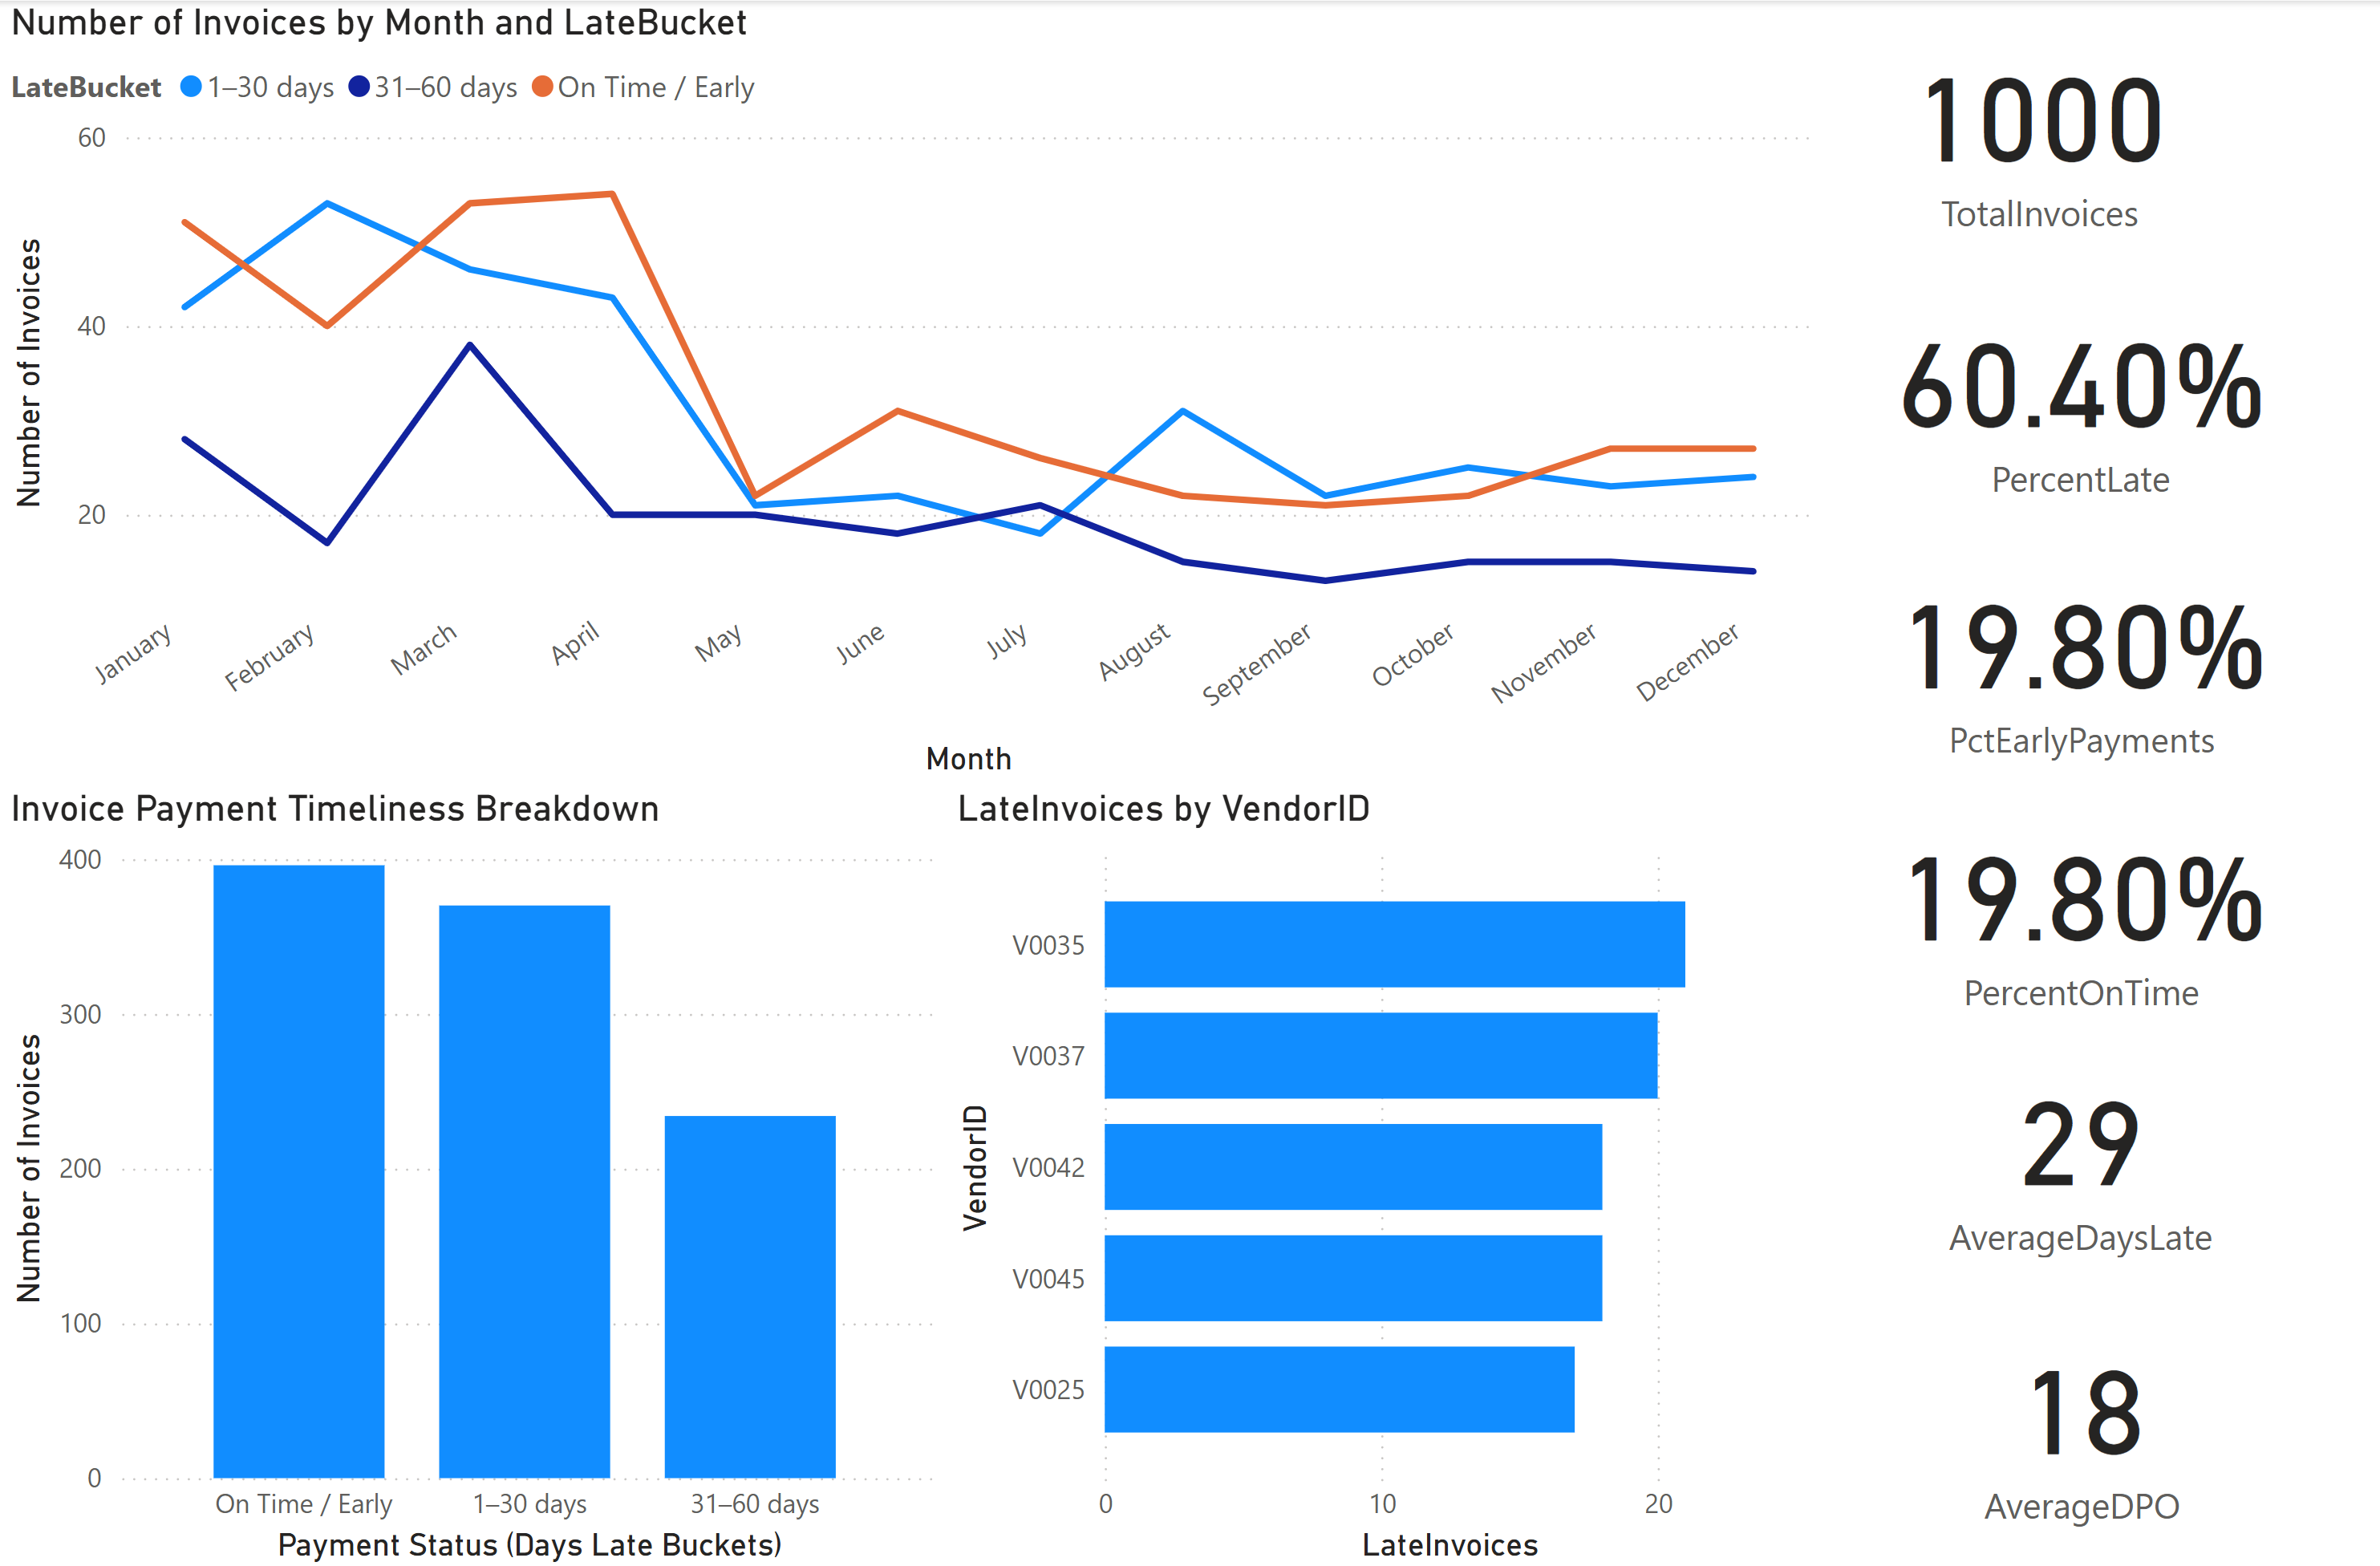

This screenshot's page, from the dashboard's own definition file:
{"tool":"powerbi","page":{"name":"Page 1","canvas":[1280,720],"ordinal":0},"visuals":[{"type":"columnChart","title":"Invoice Payment Timeliness Breakdown","fields":{"Category":["Invoices.LateBucket"],"Y":["CountNonNull(Invoices.InvoiceID)"]},"box":[0,360,433.5,360],"z":0},{"type":"barChart","fields":{"Category":["Invoices.VendorID"],"Y":["Invoices.LateInvoices"]},"box":[433.5,360,401.2,360],"z":1000},{"type":"card","fields":{"Values":["Invoices.TotalInvoices"]},"box":[834,0,200.6,116.8],"z":2000},{"type":"card","fields":{"Values":["Invoices.PercentLate"]},"box":[852.4,116.8,201.3,126.4],"z":3000},{"type":"card","fields":{"Values":["Invoices.PercentOnTime"]},"box":[853.1,356.4,200.6,117.6],"z":4000},{"type":"lineChart","title":"Number of Invoices by Month and LateBucket","fields":{"Category":["Invoices.InvoiceDate.Variation.Date Hierarchy.Month"],"Y":["Invoices.TotalInvoices"],"Series":["Invoices.LateBucket"]},"box":[0,0,834.7,360],"z":5000},{"type":"card","fields":{"Values":["Invoices.AverageDaysLate"]},"box":[852.4,473.9,201.3,106.5],"z":6000},{"type":"card","fields":{"Values":["Invoices.PctEarlyPayments"]},"box":[853.1,243.2,201.3,113.2],"z":7000},{"type":"card","fields":{"Values":["Invoices.AverageDPO"]},"box":[853.3,580.4,201,139.8],"z":7001}]}

Visuals, with their boxes on the page's 1280x720 design canvas (x1, y1, x2, y2). These are canvas units, not pixel positions in the 2380x1566 screenshot, which may show the page scaled, cropped or inside an application window:
"Invoice Payment Timeliness Breakdown" columnChart: (x1=0, y1=360, x2=434, y2=720)
barChart - Invoices.VendorID x Invoices.LateInvoices: (x1=434, y1=360, x2=835, y2=720)
card - Invoices.TotalInvoices: (x1=834, y1=0, x2=1035, y2=117)
card - Invoices.PercentLate: (x1=852, y1=117, x2=1054, y2=243)
card - Invoices.PercentOnTime: (x1=853, y1=356, x2=1054, y2=474)
"Number of Invoices by Month and LateBucket" lineChart: (x1=0, y1=0, x2=835, y2=360)
card - Invoices.AverageDaysLate: (x1=852, y1=474, x2=1054, y2=580)
card - Invoices.PctEarlyPayments: (x1=853, y1=243, x2=1054, y2=356)
card - Invoices.AverageDPO: (x1=853, y1=580, x2=1054, y2=720)
